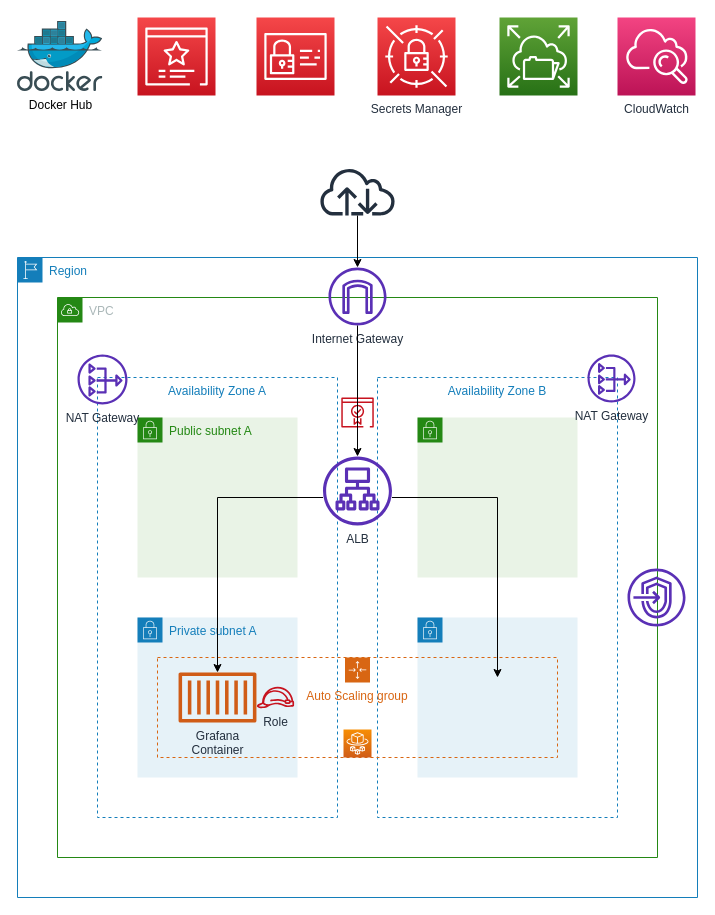
Some shapes in this 715 by 915 pixel diagram are drawn without their labels. The shapes that lost their labels are listed below. From the top down, each one's centre as x and y in pixels, then its label:
[176,56]: Certificate Manager
[295,56]: IAM
[538,56]: Elastic File System
[357,412]: Certificate
[497,497]: Public subnet B
[656,597]: PrivateLink Endpoints (Optional)
[497,697]: Private subnet B
[357,743]: Fargate Service
